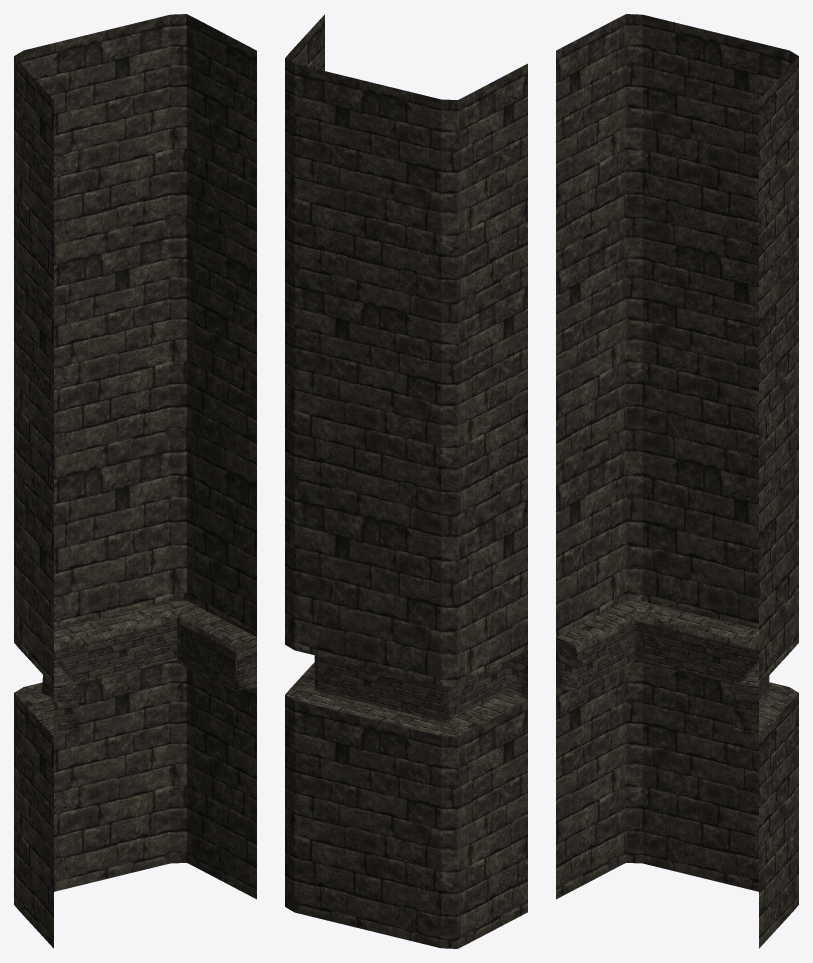
File: wallBlockIS.fbx
The picture shows the model from 3 angles, left to right: view 1: azimuth 30°, elevation 25°; view 2: azimuth 150°, elevation 25°; view 3: azimuth 330°, elevation 25°; orthographic projection.
Visible parts, largest first — view 1: polySurface82; view 2: polySurface82; view 3: polySurface82.
Part boxes in pixels (x1,y1,x2,y2): polySurface82: (14, 14, 256, 948); polySurface82: (285, 14, 527, 948); polySurface82: (556, 14, 798, 948).
Size of the model in its own units: 2 by 8 by 1.04.
1 material, 1 textured.
